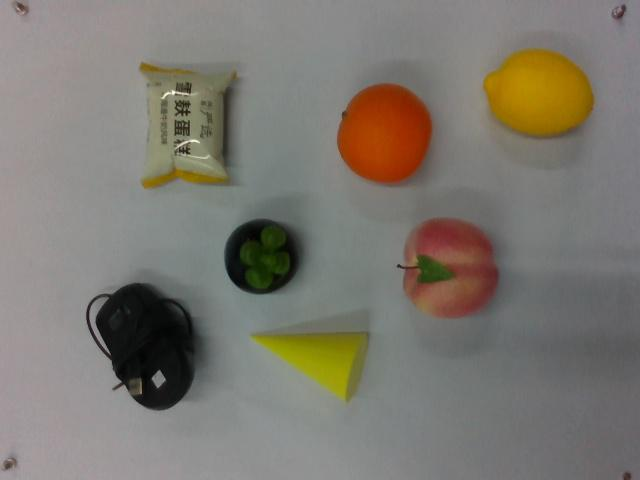cone: (246, 326, 371, 405)
dessert: (136, 58, 235, 187)
lemon: (484, 48, 597, 139)
mangosteen: (226, 221, 301, 295)
mouse: (82, 279, 202, 412)
orange: (340, 79, 430, 187)
peach: (399, 220, 502, 319)
